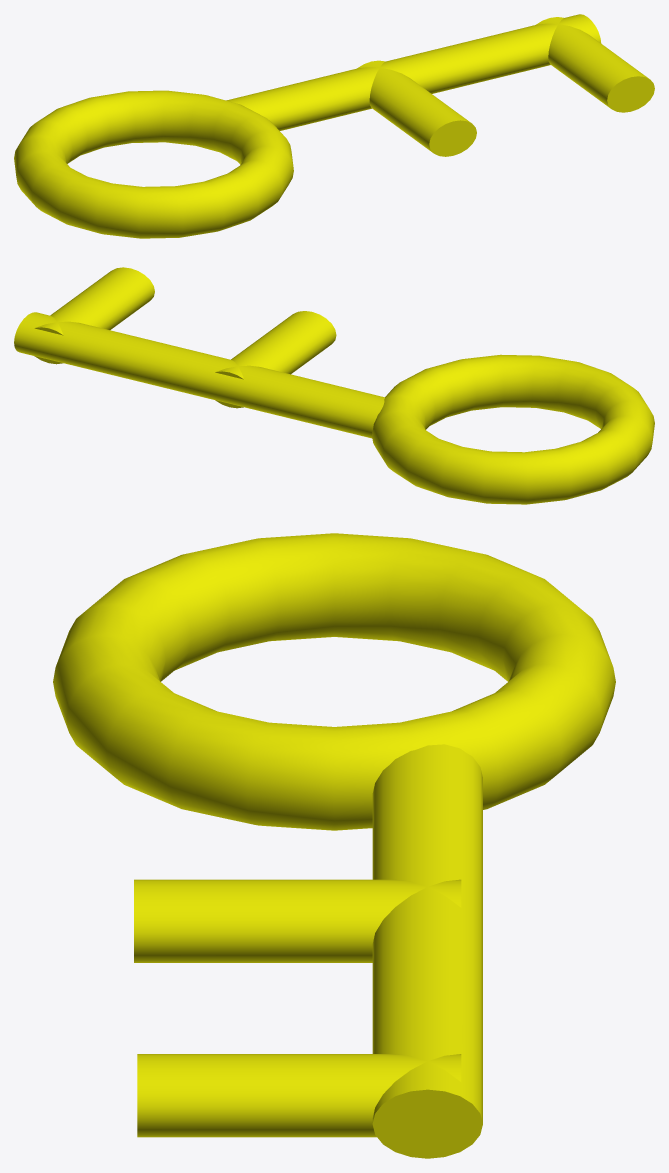
File: LLave.fbx
The picture shows the model from 3 angles, top to bottom: view 1: azimuth 30°, elevation 25°; view 2: azimuth 150°, elevation 25°; view 3: azimuth 270°, elevation 25°; orthographic projection. The views are drawn at different scales.
Visible parts, largest first — view 1: pCylinder4; view 2: pCylinder4; view 3: pCylinder4.
Part boxes in pixels (bbox=[...]): pCylinder4: bbox=[14, 14, 654, 238]; pCylinder4: bbox=[14, 267, 654, 504]; pCylinder4: bbox=[53, 533, 615, 1158].
Bounding box in the file's own units: 11.08 × 0.8661 × 4.67.
